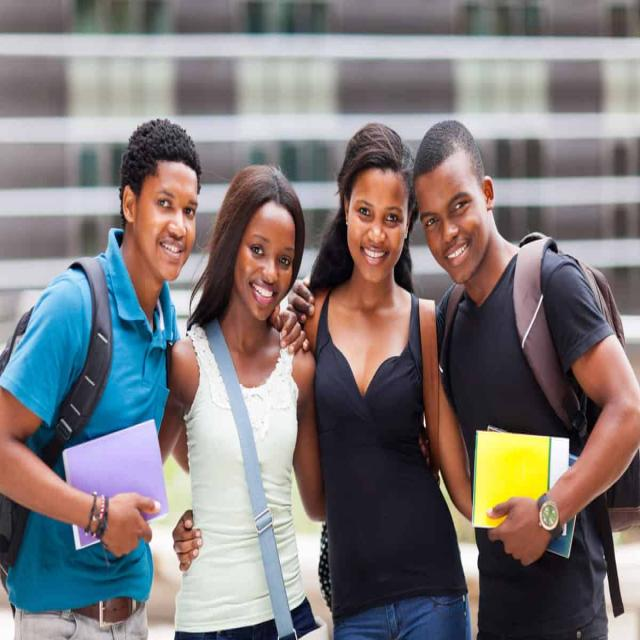sem_oculos: (121, 174, 198, 218), (409, 191, 501, 225), (345, 187, 401, 223), (244, 241, 295, 269)
